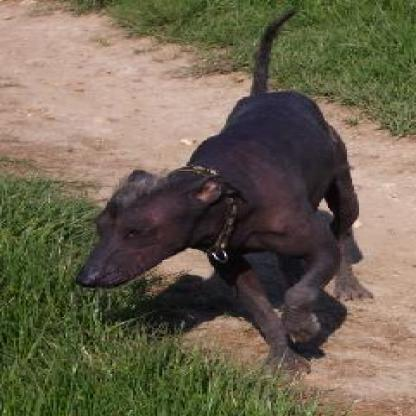Mexican_hairless: (64, 0, 368, 371)
